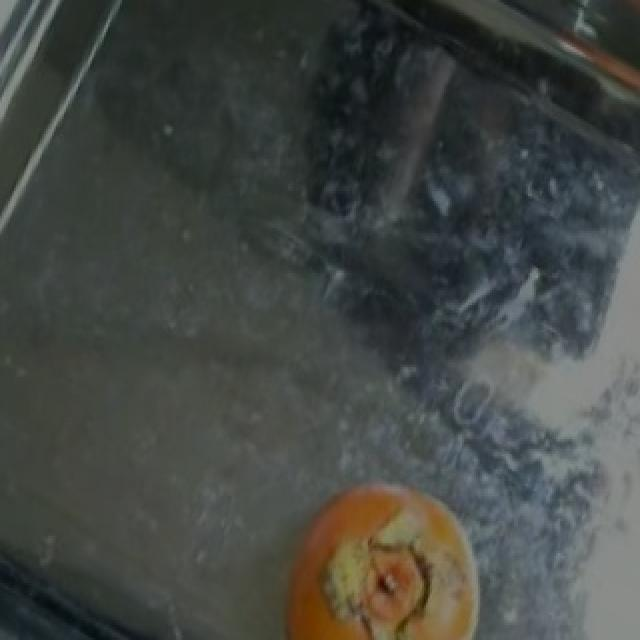Fruit: (266, 461, 500, 640)
